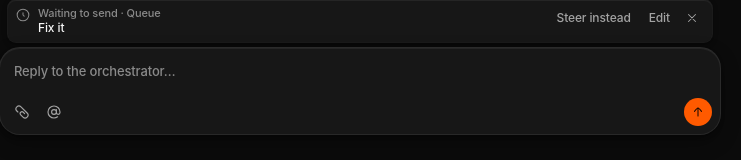
message edit › moves the queued text into the composer
What coordinates should you click on to do the following:
click the button "Edit"
I would click on:
 (659, 18)
Its box is [641,6,678,30].
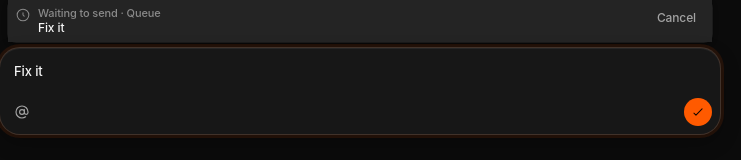
Check: the text box with test id "composer-input" holds "Fix it", box [14,60,712,84]
